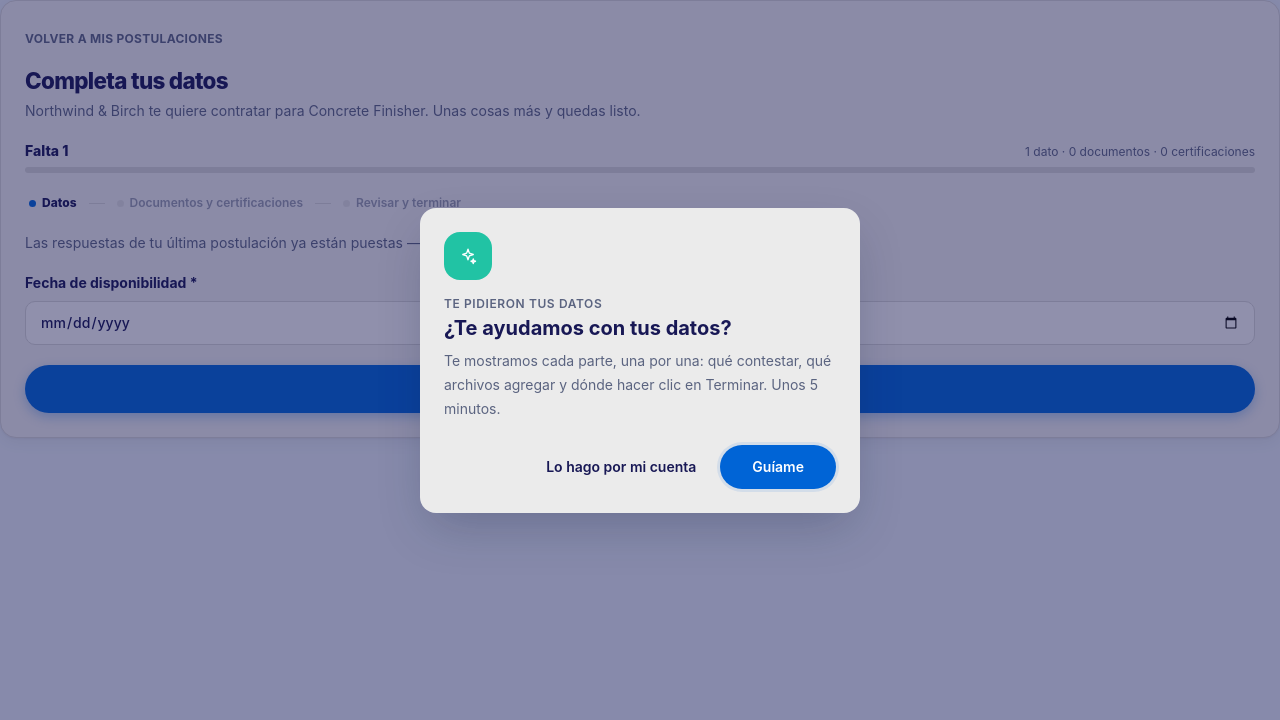
worker_details guide — where it starts › speaks Spanish, as tú
Click the button "Guíame": (778, 466) [720, 444, 836, 488]
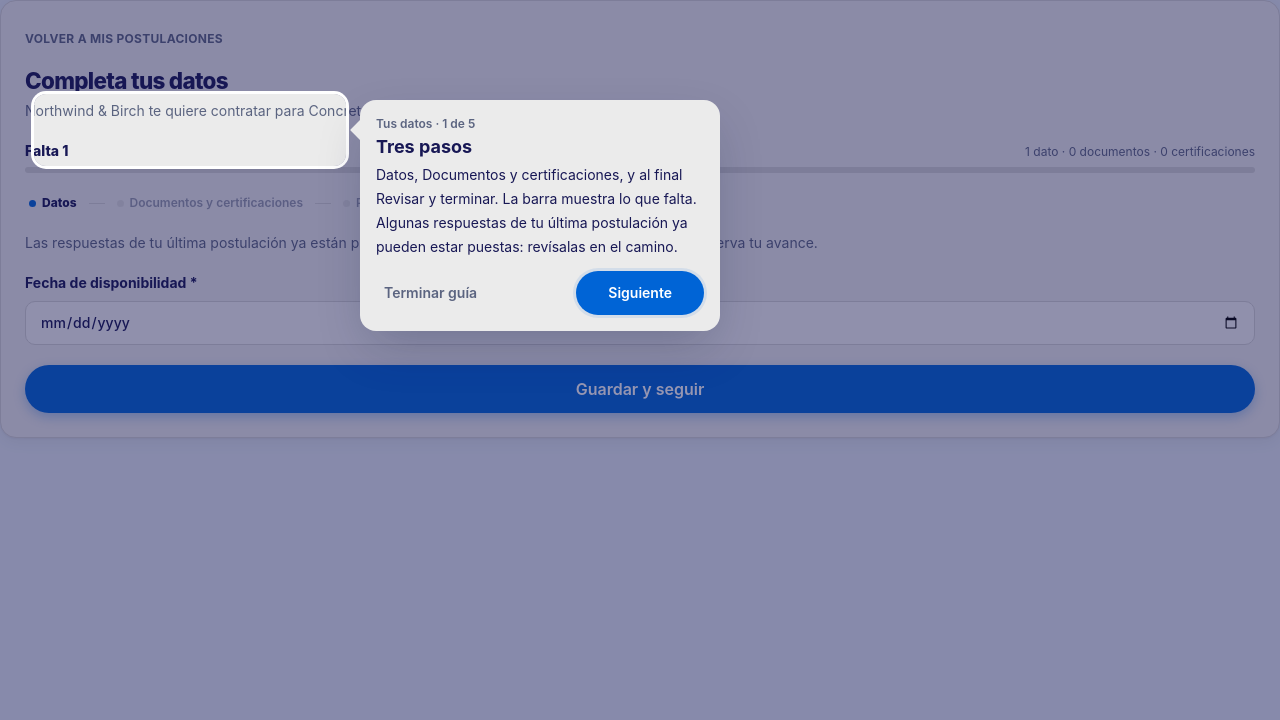
Now the dialog shows "Tres pasos", box [376, 136, 472, 157]
Now the dialog shows "Tus datos · 1 de 5", box [376, 116, 475, 131]
